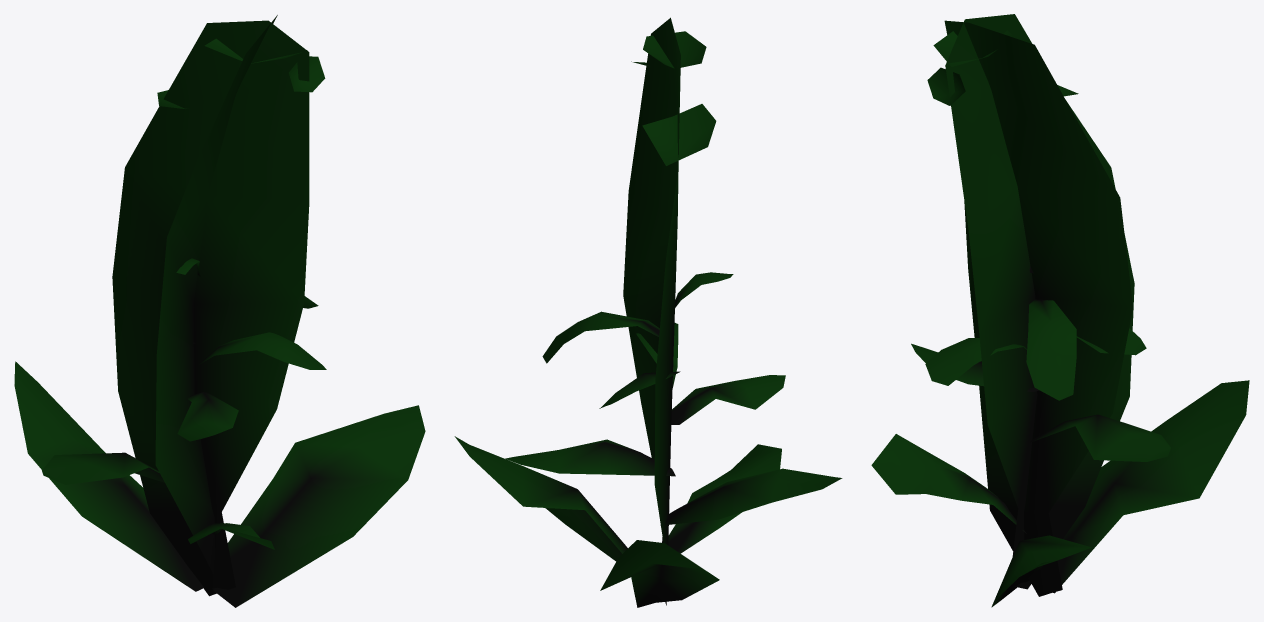
Rendered from FlowersWhiteGCATA_A.fbx.
3 views of the same model, side by side, from view 1: azimuth 30°, elevation 25°; view 2: azimuth 150°, elevation 25°; view 3: azimuth 270°, elevation 25° (orthographic). The views are drawn at different scales.
Visible parts, largest first — view 1: FWGCATAA_LOD0; view 2: FWGCATAA_LOD0; view 3: FWGCATAA_LOD0.
Boxes of the visible parts, x1,y1,x2,y2 form: FWGCATAA_LOD0: [14, 15, 425, 607]; FWGCATAA_LOD0: [454, 17, 842, 607]; FWGCATAA_LOD0: [871, 14, 1249, 607].
Size of what is drawn, in the model's own units: 0.5865 by 0.855 by 0.4963.
